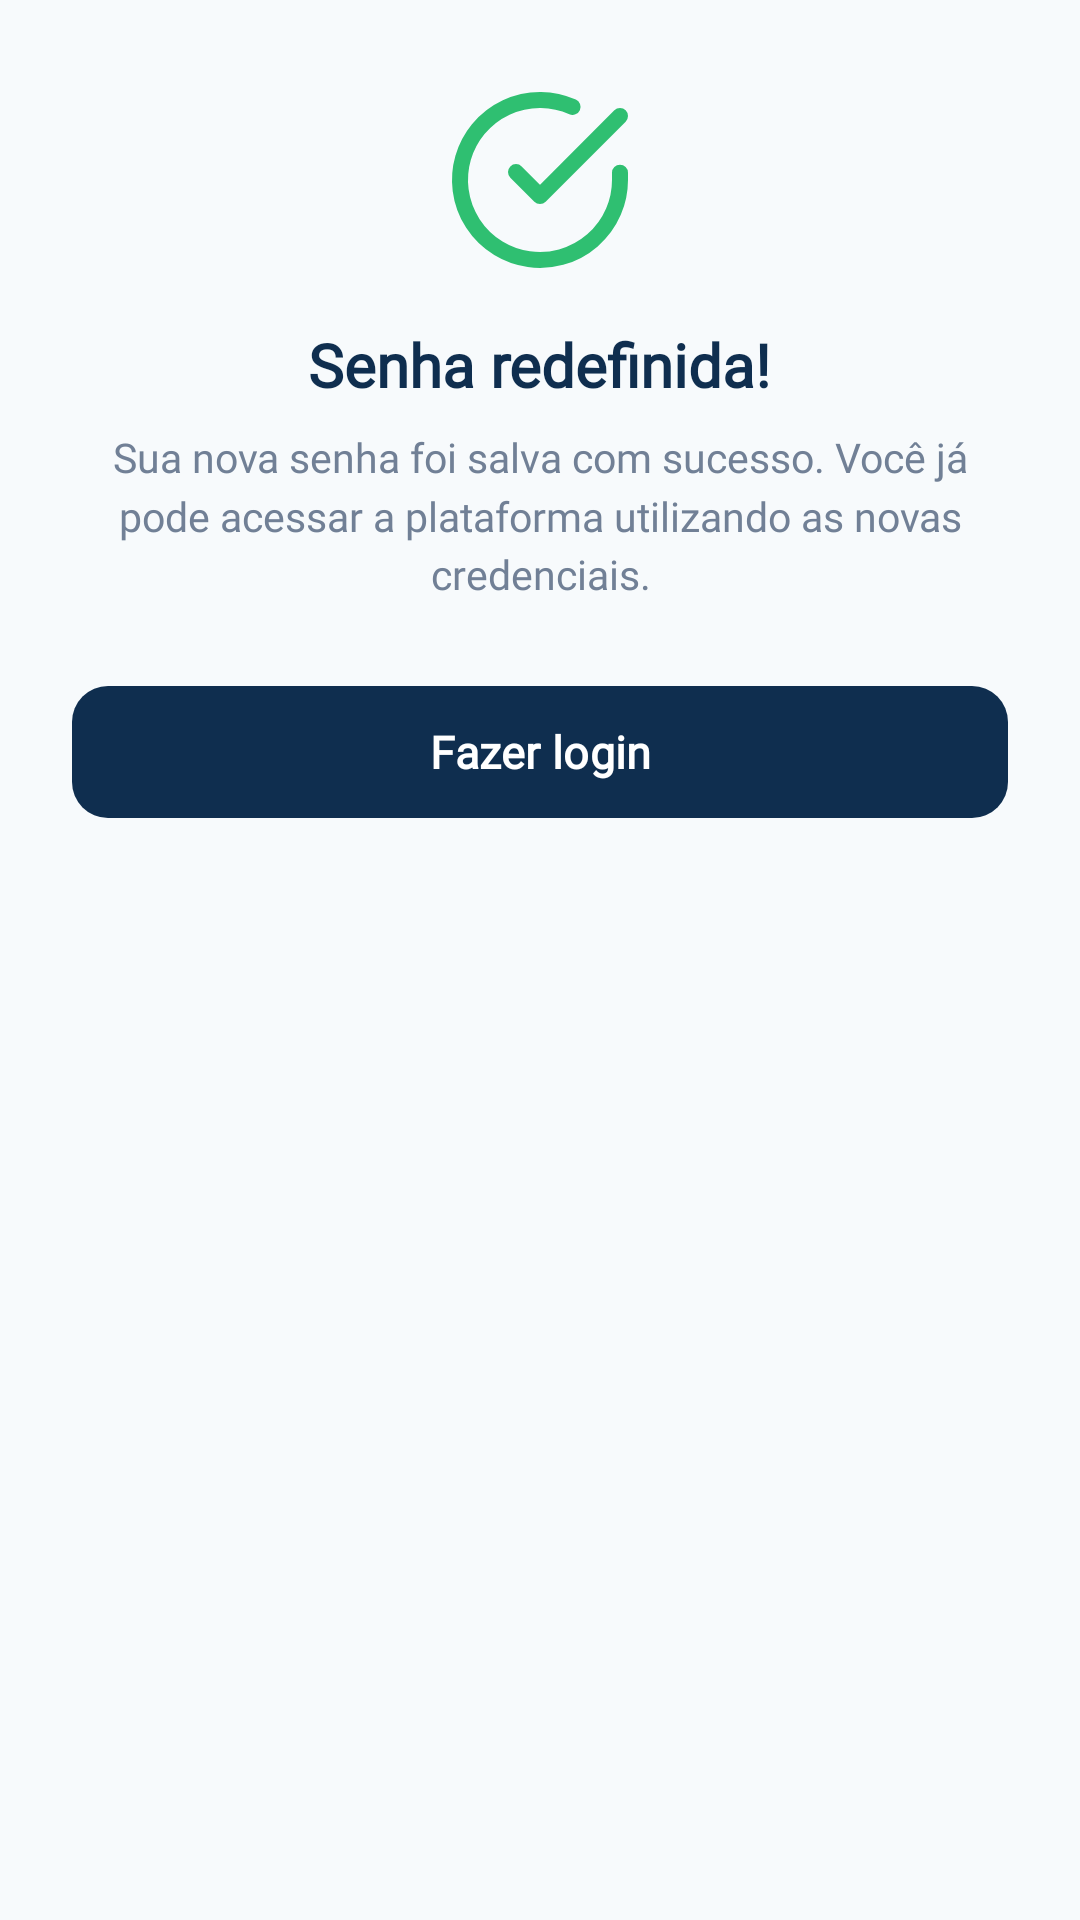

Icon click points for this 1080px x 1920px phone screenshot, format (x=x, y=y):
check circle: (x=540, y=180)
